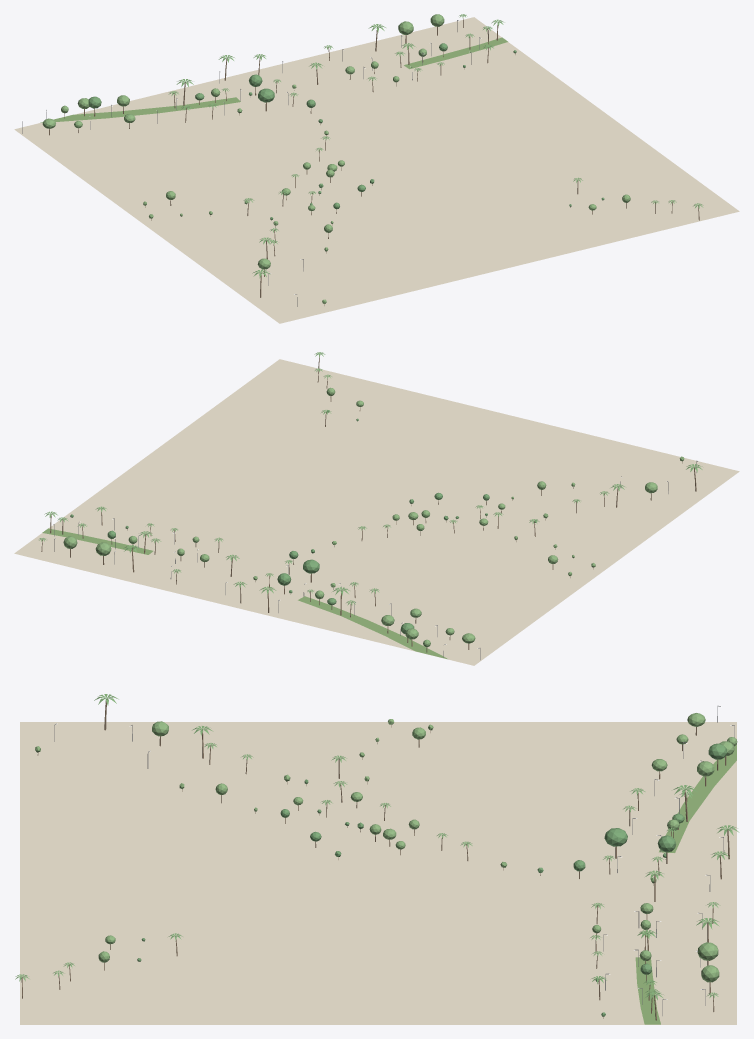
The model's file is nature_-2_4.glb.
The picture shows the model from 3 angles, top to bottom: view 1: azimuth 30°, elevation 25°; view 2: azimuth 150°, elevation 25°; view 3: azimuth 270°, elevation 25°; orthographic projection. The views are drawn at different scales.
Parts seen in each view (by area): view 1: ground, foliage_b, grass, palm_leaf, trunk, foliage_a; view 2: ground, foliage_b, grass, palm_leaf, trunk, foliage_a; view 3: ground, foliage_b, grass, palm_leaf, foliage_a, trunk.
Part boxes in pixels (x1,y1,x2,y2): ground: (14,17,739,323); foliage_b: (42,14,630,303); grass: (40,37,507,122); palm_leaf: (168,14,703,278); trunk: (49,18,699,305); foliage_a: (88,43,604,220); ground: (14,359,739,665); foliage_b: (63,387,684,647); grass: (42,528,447,659); palm_leaf: (39,352,702,605); trunk: (41,357,696,652); foliage_a: (70,410,537,634); ground: (20,722,736,1024); foliage_b: (35,713,737,982); grass: (635,739,736,1024); palm_leaf: (15,694,739,1000); foliage_a: (137,743,726,1016); trunk: (21,701,729,1020).
Bounding box in the file's own units: 250 × 13.15 × 253.
